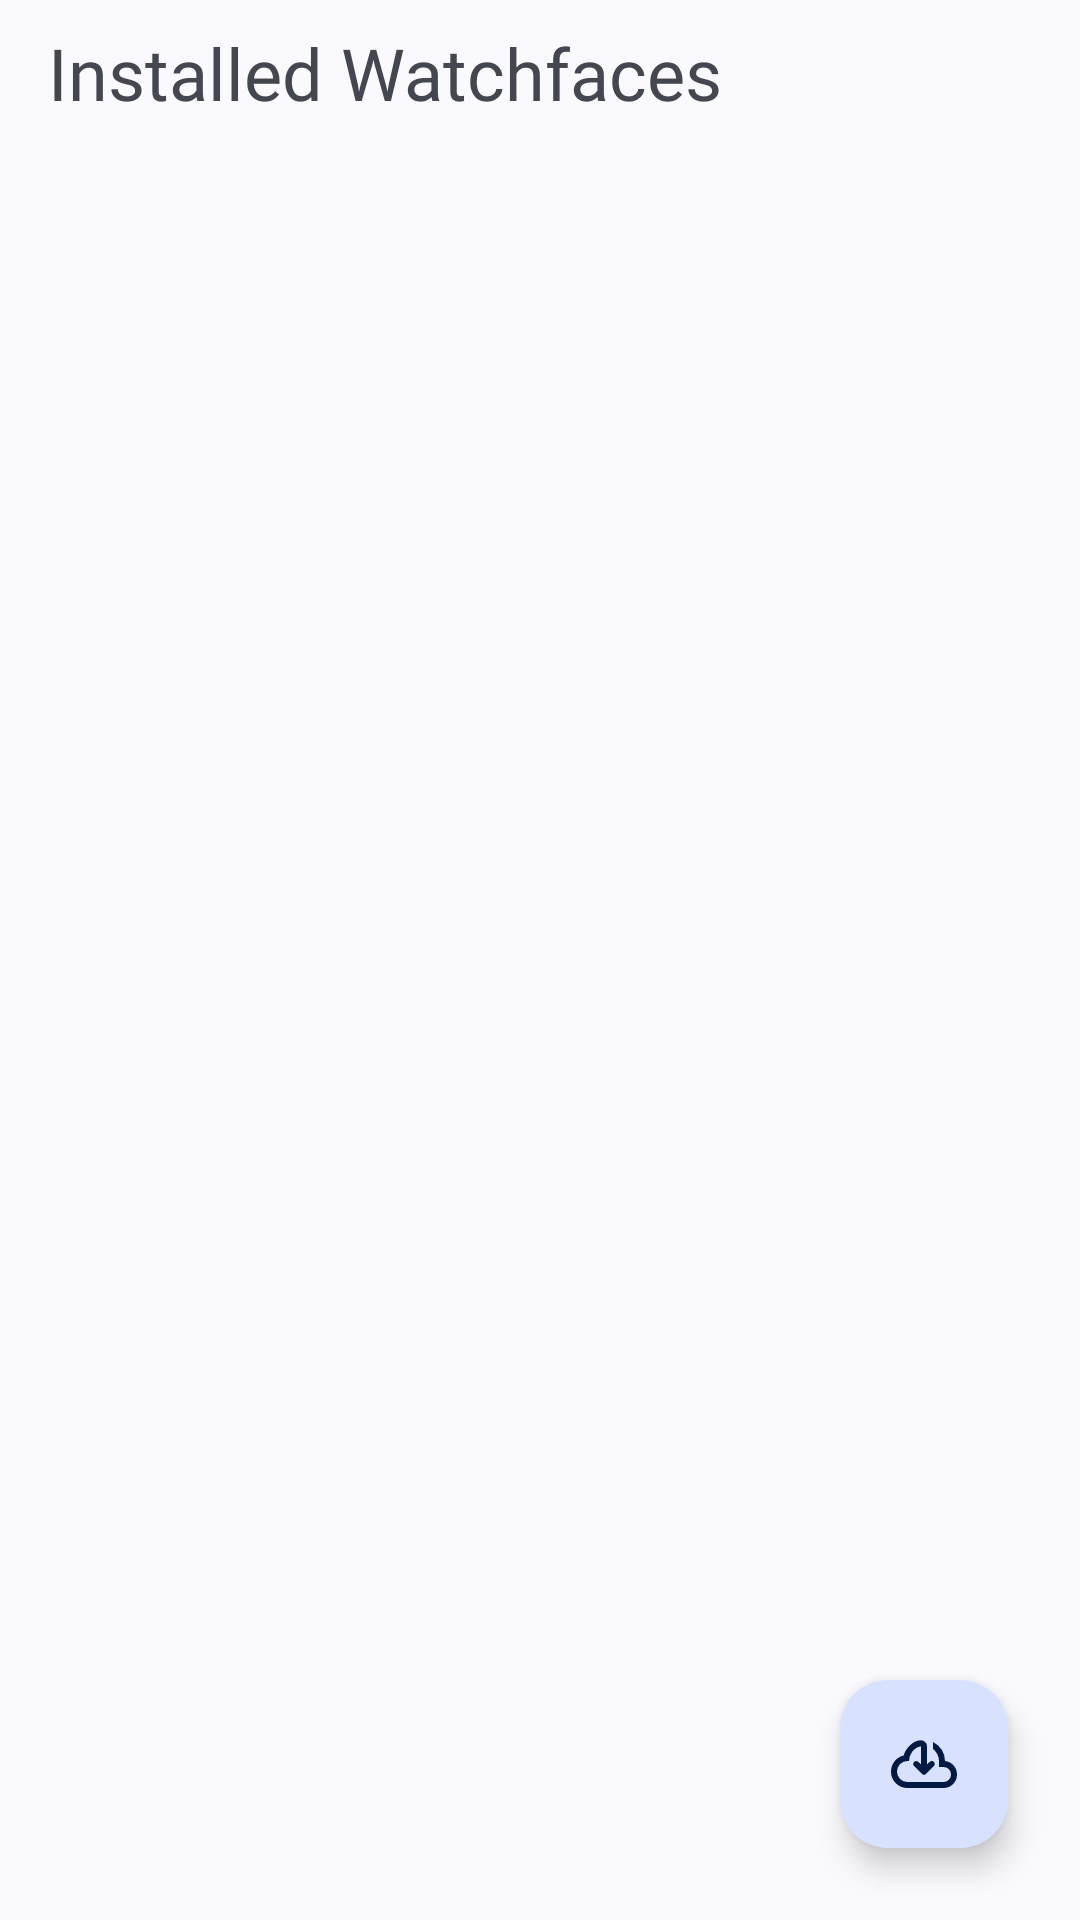

Icons on this 1080 × 1920 Android screen, each with its box as (x1, y1, x2, y2):
cloud download: (840, 1680, 1008, 1848)
